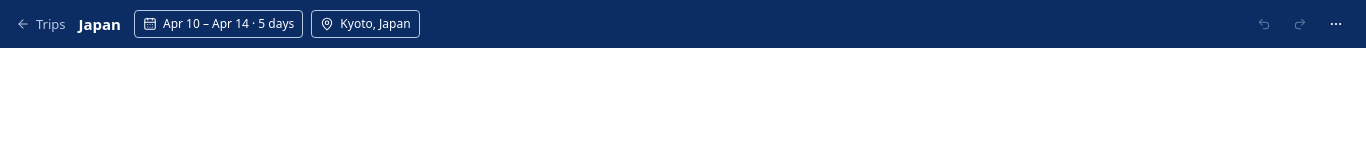
Test: TripHeader banner photo › is not offered when the banner is hidden or the trip has no location
The width and height of the screenshot is (1366, 160).
Click the button named "More trip actions".
click(1336, 24)  # box [1322,10,1350,38]
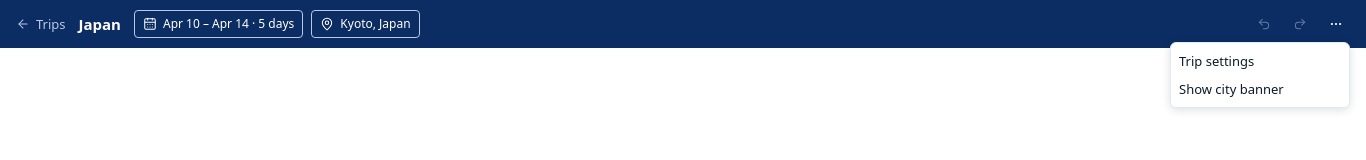
Now the menu item "Show city banner" is shown, box [1179,80,1284,98]
